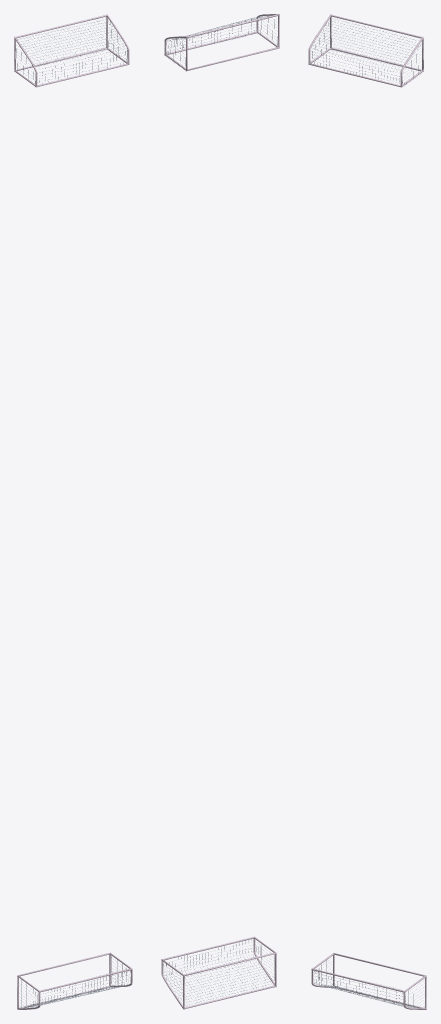
File: doelen.glb
3 renders of one model, left to right at view 1: azimuth 30°, elevation 25°; view 2: azimuth 210°, elevation 25°; view 3: azimuth 330°, elevation 25°, orthographic.
Parts seen in each view (by area): view 1: Frame.001, Frame, Net.001, Net; view 2: Frame, Frame.001, Net, Net.001; view 3: Frame.001, Frame, Net.001, Net.
Boxes of the visible parts, box(x1,y1,x2,y2) form: Frame.001: box(14, 14, 129, 87); Frame: box(17, 952, 132, 1009); Net.001: box(16, 18, 127, 83); Net: box(19, 956, 130, 1007); Frame: box(161, 936, 276, 1009); Frame.001: box(164, 14, 279, 71); Net: box(163, 939, 274, 1006); Net.001: box(164, 15, 277, 69); Frame.001: box(308, 14, 423, 87); Frame: box(311, 952, 426, 1009); Net.001: box(310, 17, 423, 84); Net: box(314, 960, 424, 1008).
Size of the model in its own units: 11.75 by 113 by 4.72.
